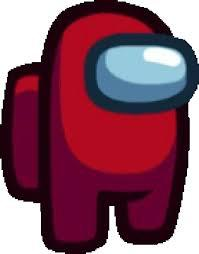amongus: (2, 2, 197, 250)
